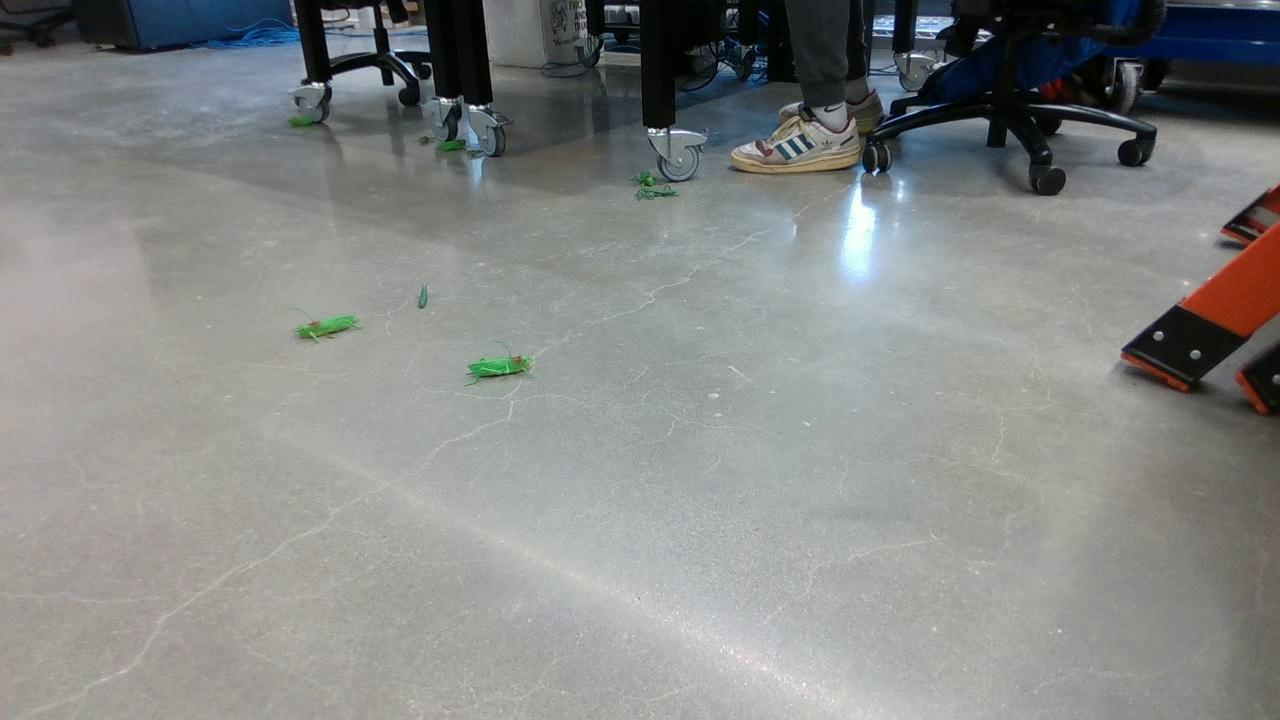grasshopper: (461, 352, 531, 385), (290, 317, 362, 341), (625, 168, 665, 187), (284, 113, 315, 127), (435, 141, 469, 151)
